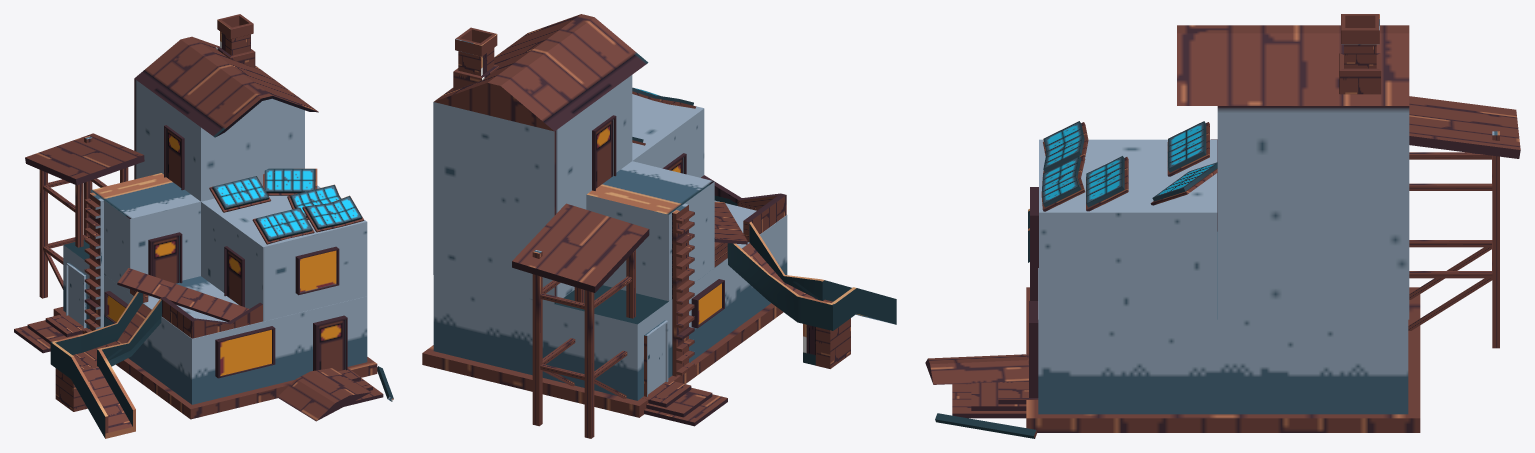
File: CasaComCaixaDaAguaQuebrada.fbx
3 views of the same model, side by side, from view 1: azimuth 30°, elevation 25°; view 2: azimuth 150°, elevation 25°; view 3: azimuth 270°, elevation 25° (orthographic). The views are drawn at different scales.
Visible parts, largest first — view 1: Casa com caixa d'agua; view 2: Casa com caixa d'agua; view 3: Casa com caixa d'agua.
Part boxes in pixels (x1=…): Casa com caixa d'agua: x1=14, y1=14, x2=393, y2=438; Casa com caixa d'agua: x1=422, y1=14, x2=896, y2=438; Casa com caixa d'agua: x1=925, y1=14, x2=1520, y2=438.
Size of the model in its own units: 1176 by 1510 by 1107.
